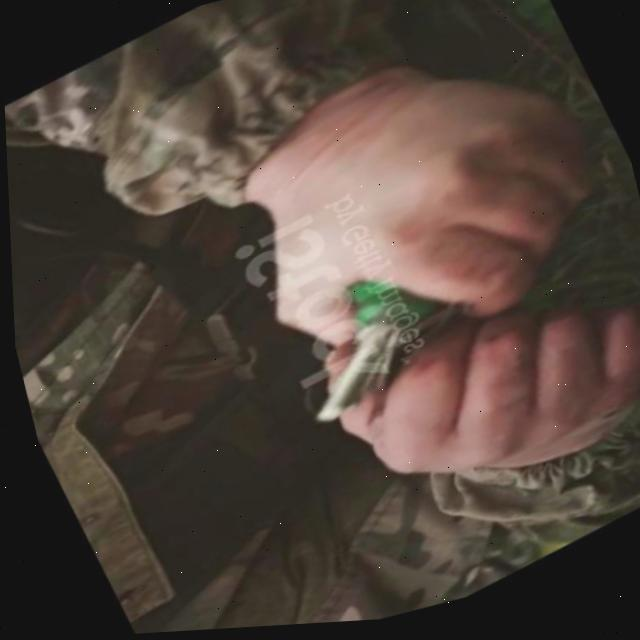grenade: (257, 261, 462, 447)
